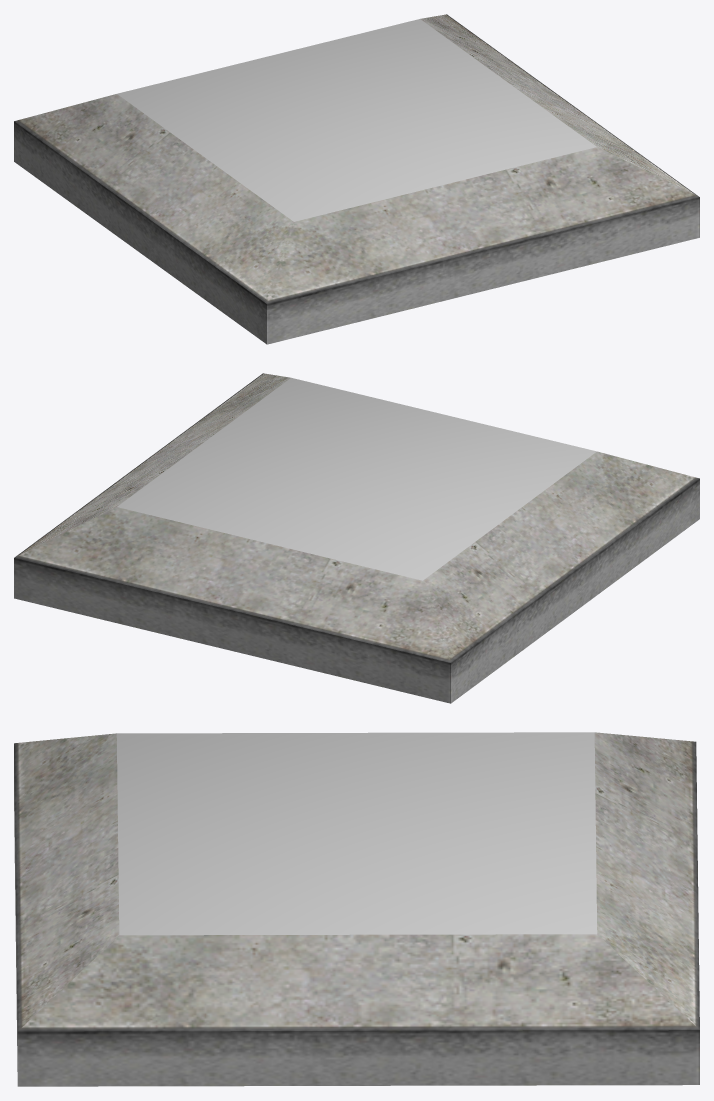
File: port.FBX
3 renders of one model, top to bottom at view 1: azimuth 30°, elevation 25°; view 2: azimuth 150°, elevation 25°; view 3: azimuth 270°, elevation 25°, orthographic. The views are drawn at different scales.
Visible parts, largest first — view 1: Object066; view 2: Object066; view 3: Object066.
Part boxes in pixels (bbox=[...]): Object066: bbox=[14, 14, 699, 344]; Object066: bbox=[14, 373, 699, 703]; Object066: bbox=[14, 732, 699, 1086].
Size of the model in its own units: 30.87 by 5.36 by 30.88.
